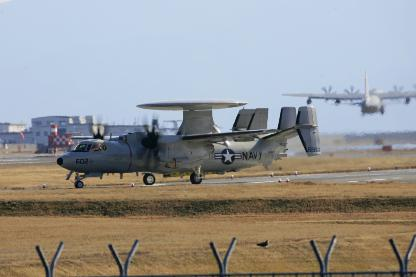Be200: (282, 69, 414, 116)
C5: (56, 98, 320, 187)
